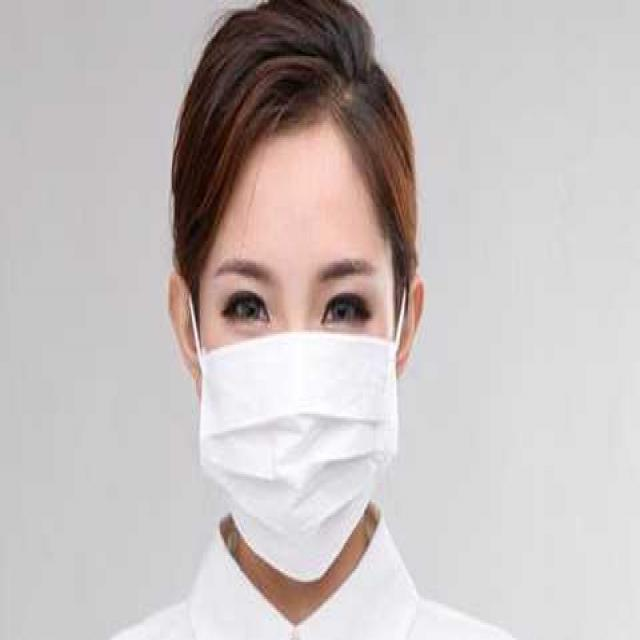mask: (199, 145, 396, 550)
